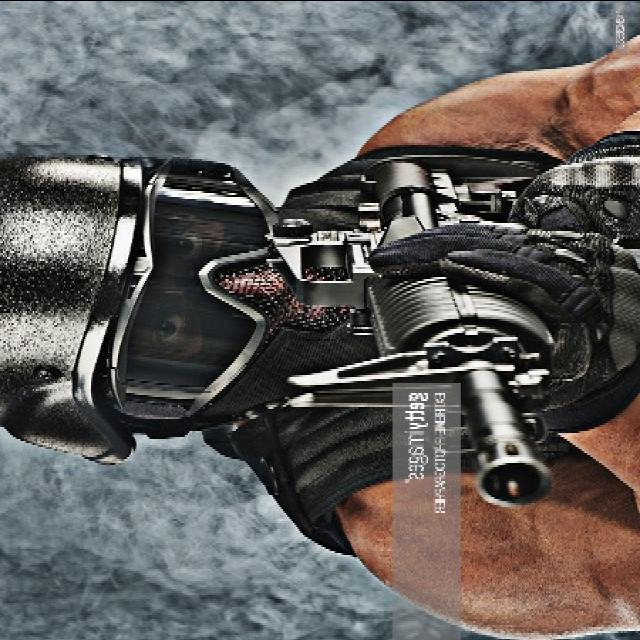rifle: (260, 157, 568, 521)
